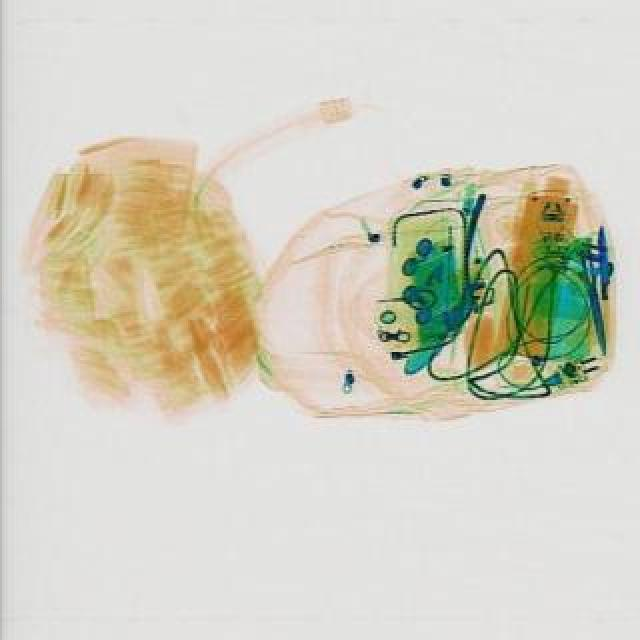knife: (576, 254, 608, 360), (590, 228, 614, 302)
